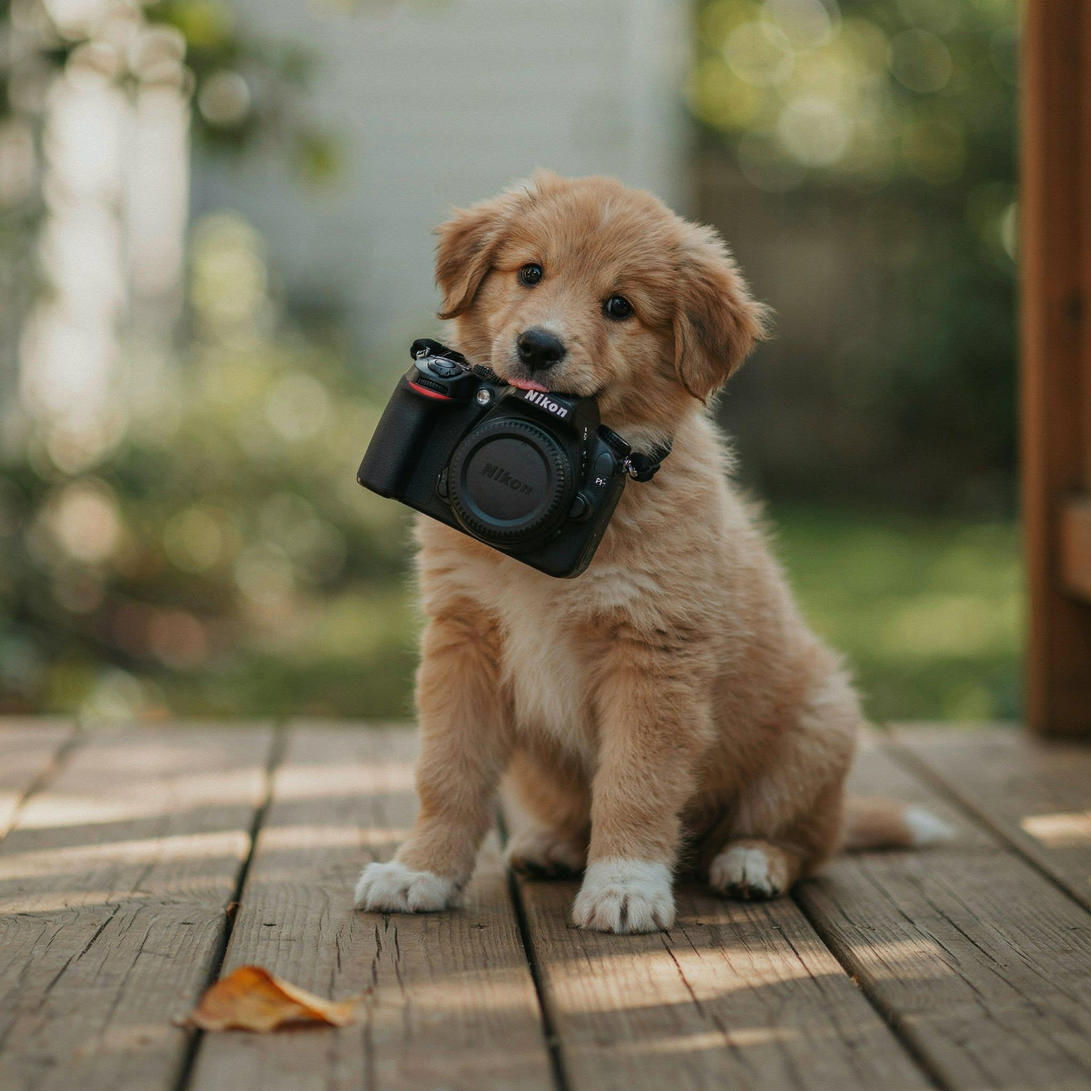non-dog: (357, 338, 632, 583)
puppy-dog: (349, 165, 956, 940)
